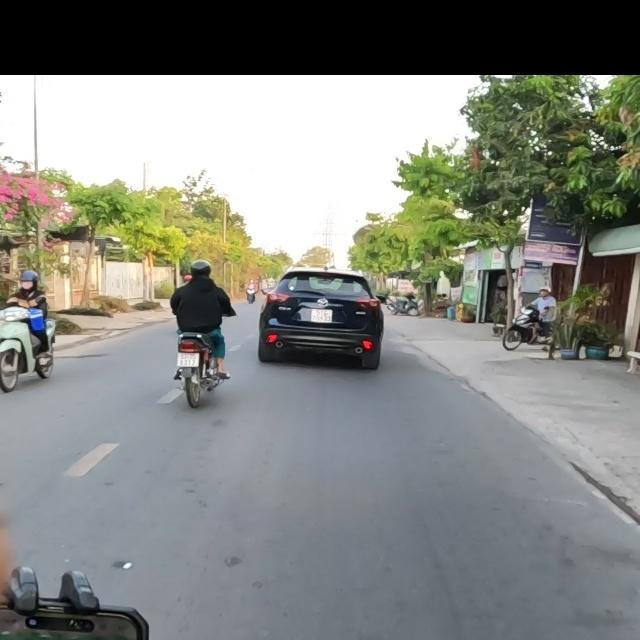license-plate: (176, 352, 201, 369), (310, 308, 333, 323)
